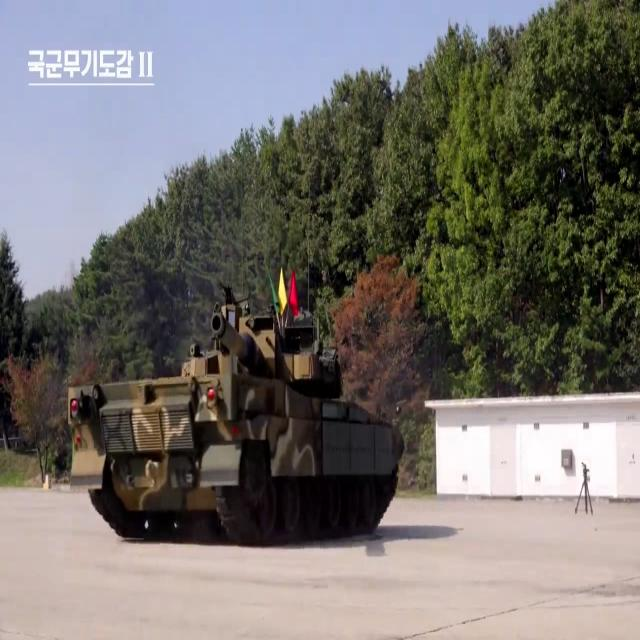korea tank: (67, 278, 406, 543)
